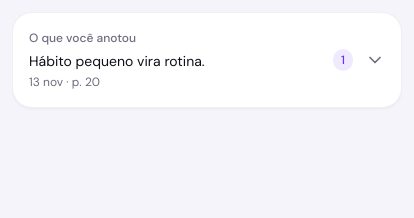
Test: anotações do livro (acordeão) › toca no título: abre e fecha
Click the button "O que você anotou" at coordinates (207, 60), box [13,13,401,107]
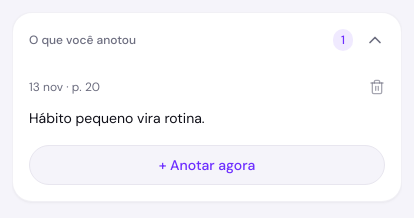
Expected: the text "Hábito pequeno vira rotina." is shown, [29,109,205,127]
Expected: the button "O que você anotou 1" is expanded
Click the button "O que você anotou 1" at coordinates (83, 40), box [13,13,401,67]
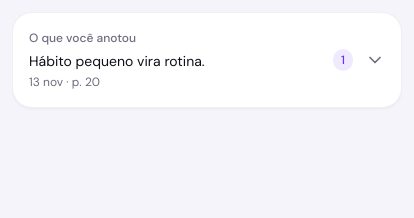
Expected: the button "O que você anotou" is collapsed, [13,13,401,107]
